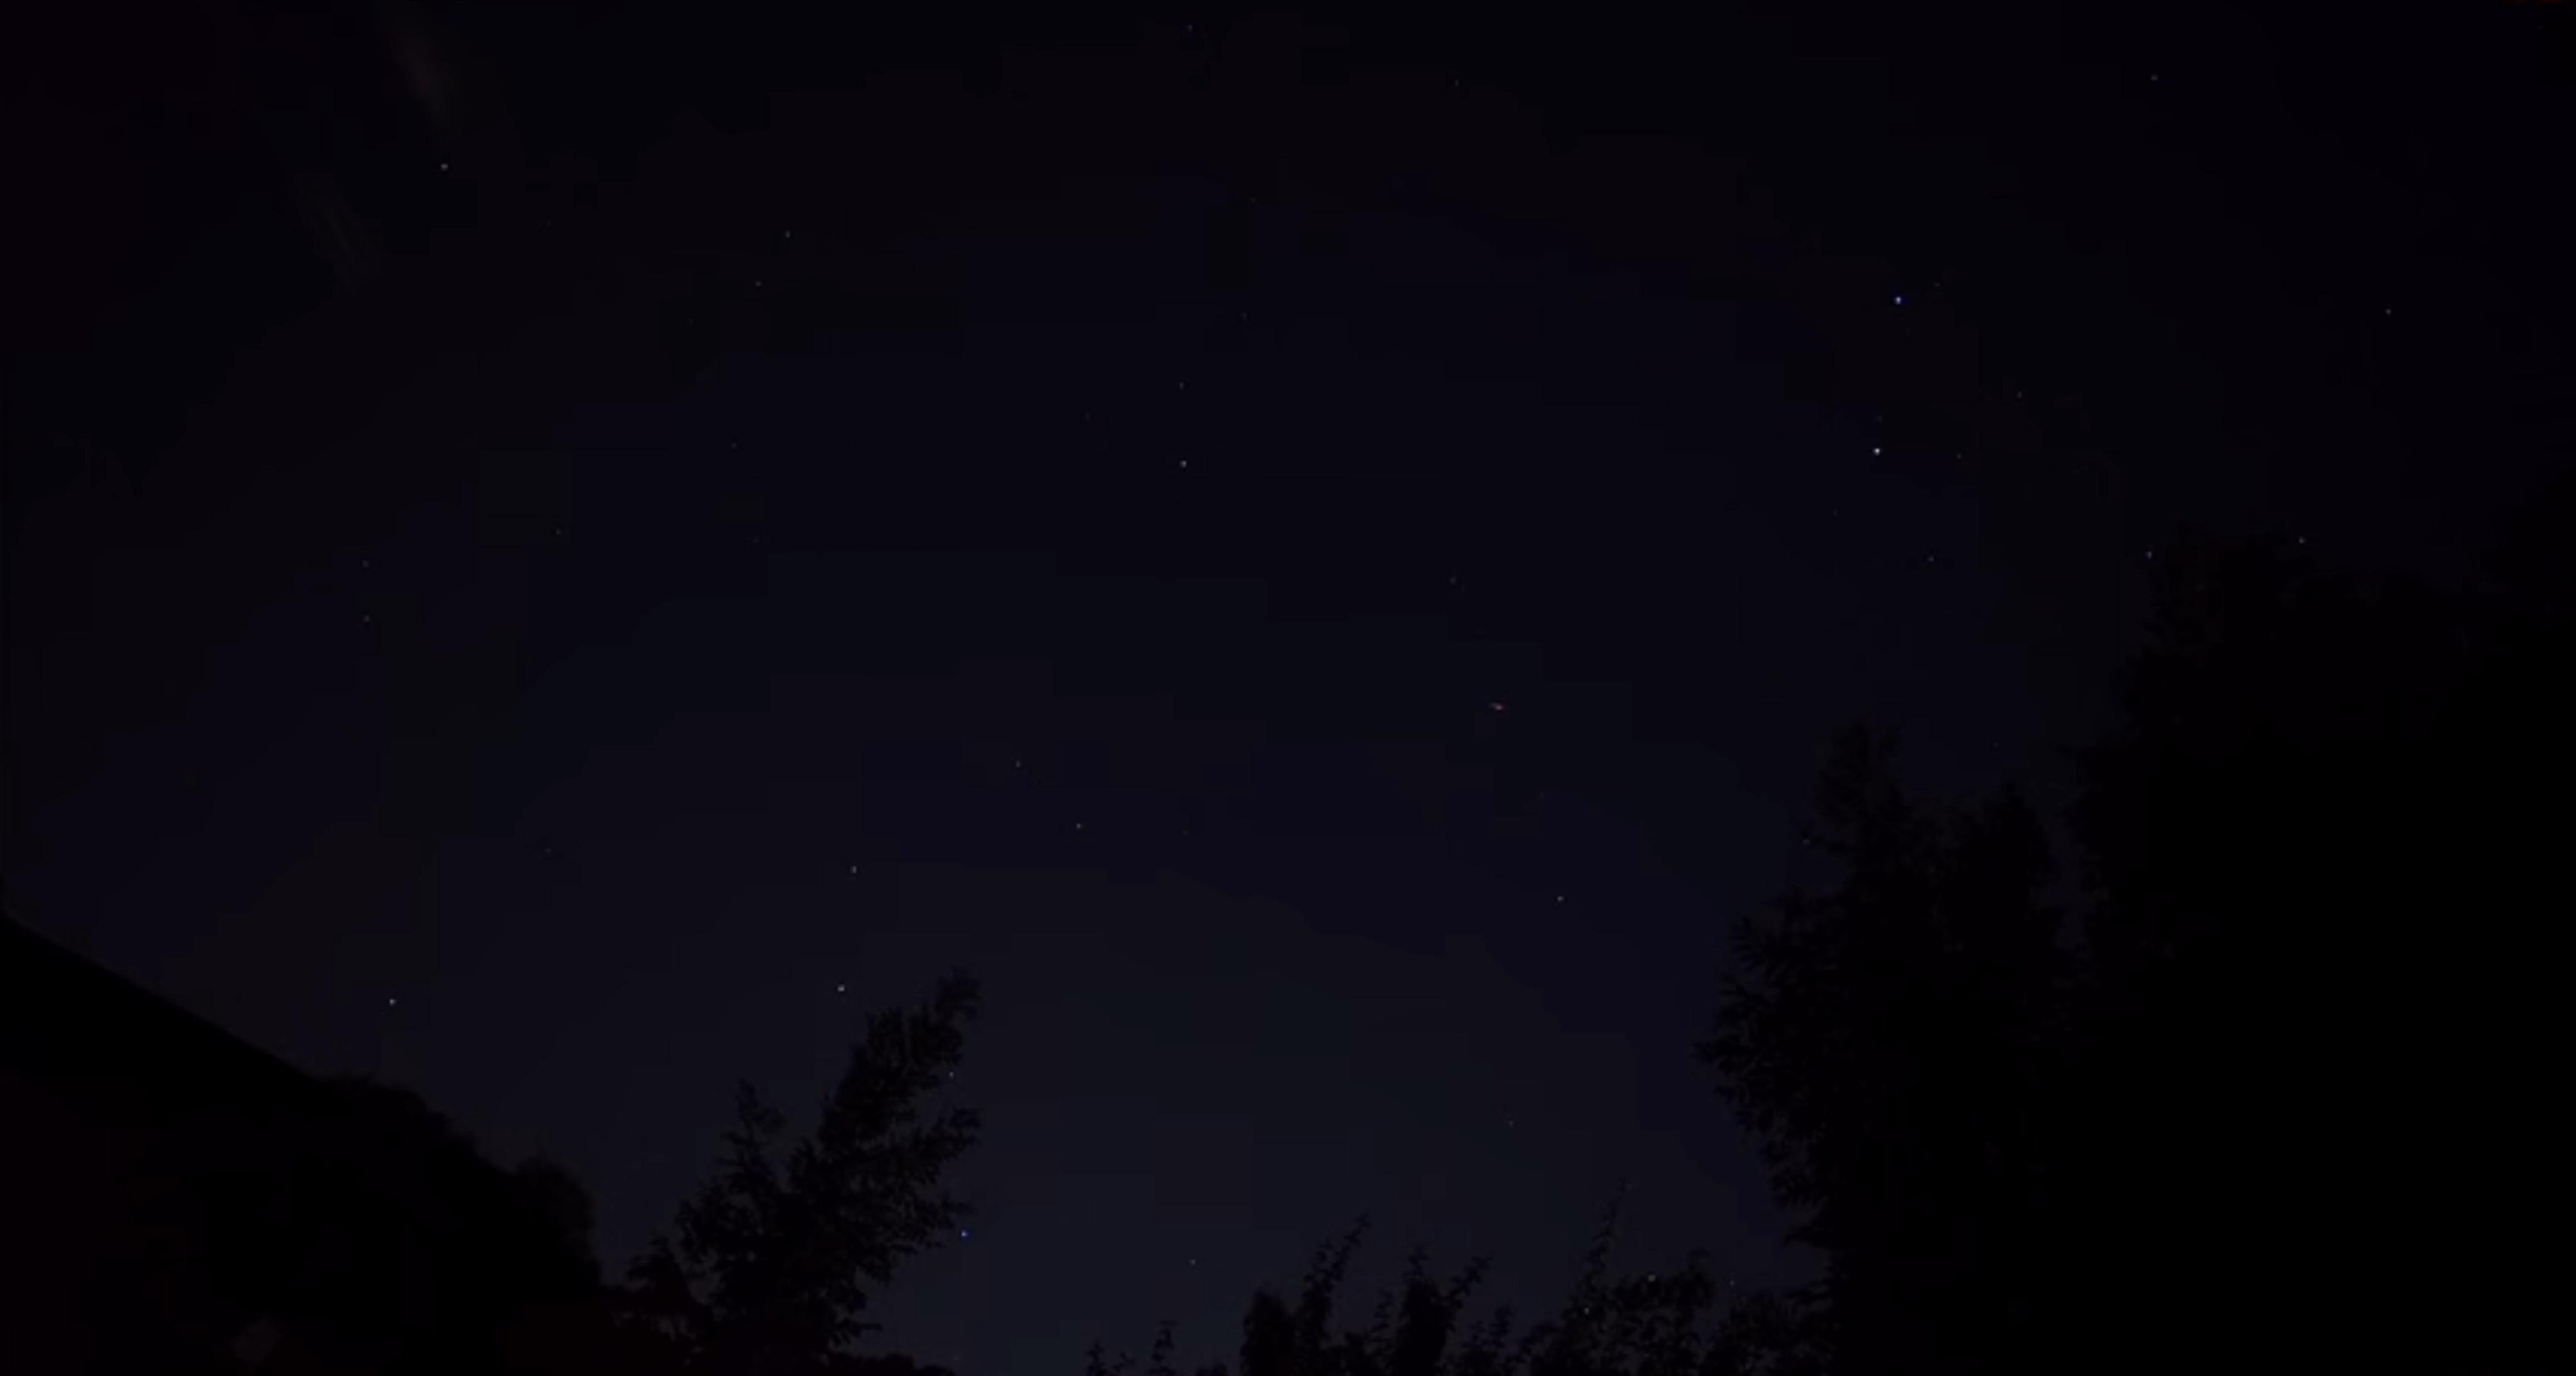Plane: (1481, 693, 1511, 734)
